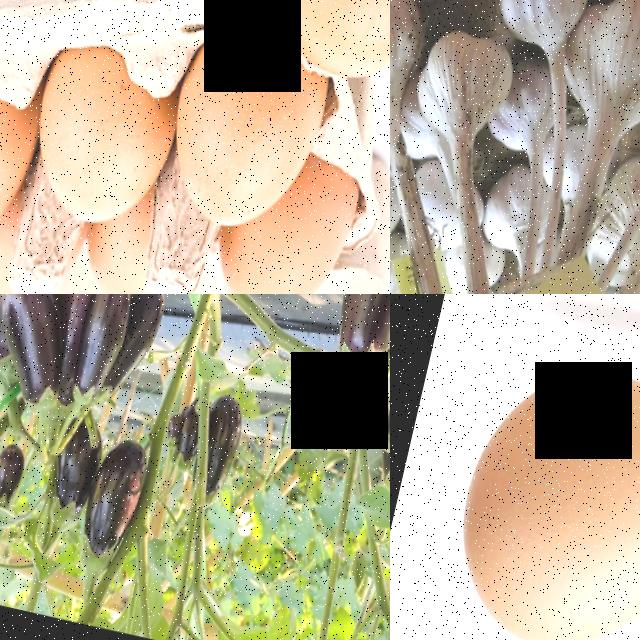egg_: (430, 336, 640, 640), (150, 27, 327, 241), (18, 48, 182, 233), (226, 0, 390, 97), (205, 195, 346, 294), (0, 56, 40, 257)
eggplant: (72, 432, 148, 578), (0, 294, 76, 420), (63, 294, 136, 407), (108, 294, 173, 397), (193, 390, 250, 507), (325, 294, 390, 379), (44, 439, 98, 531), (0, 439, 28, 507)
garlic: (408, 22, 520, 150), (559, 0, 640, 146), (486, 0, 597, 58), (390, 0, 432, 128)
